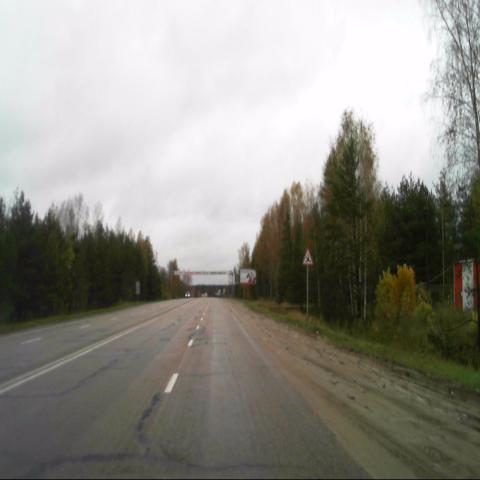1_30: (301, 247, 314, 267)
